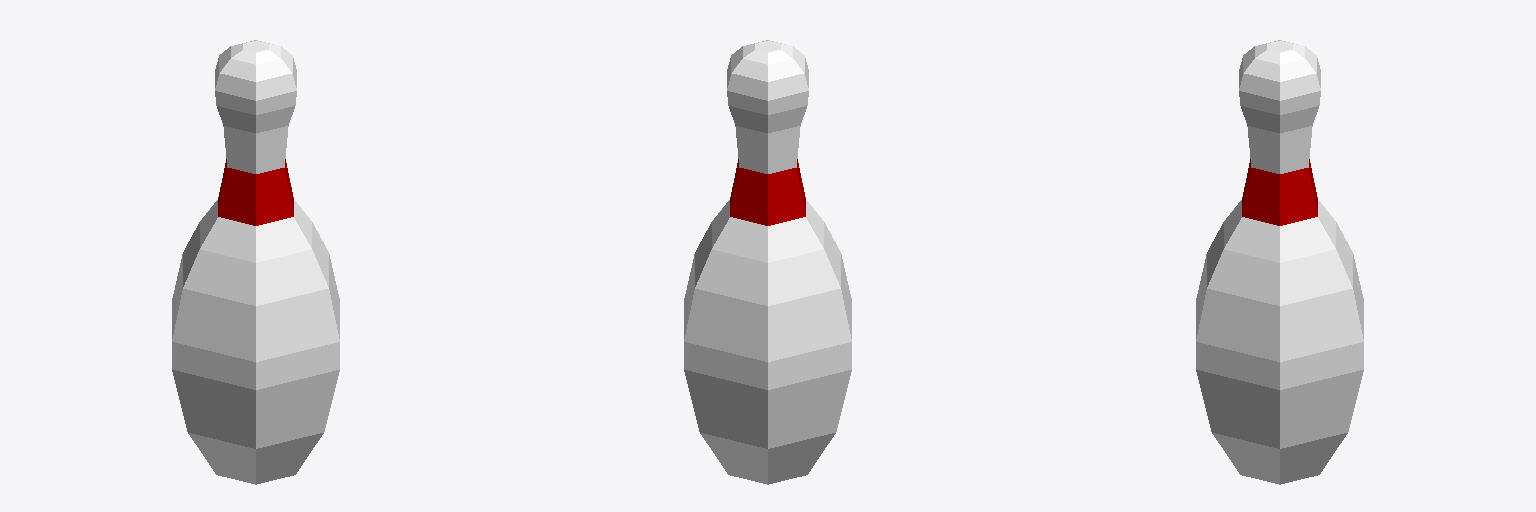
Rendered from pin.obj.
3 renders of one model, left to right at view 1: azimuth 30°, elevation 25°; view 2: azimuth 150°, elevation 25°; view 3: azimuth 270°, elevation 25°, orthographic.
Parts seen in each view (by area): view 1: Mesh1 Bowling_ball_and_pin1 Model; view 2: Mesh1 Bowling_ball_and_pin1 Model; view 3: Mesh1 Bowling_ball_and_pin1 Model.
Part boxes in pixels (bbox=[...]): Mesh1 Bowling_ball_and_pin1 Model: bbox=[172, 40, 339, 484]; Mesh1 Bowling_ball_and_pin1 Model: bbox=[684, 40, 851, 484]; Mesh1 Bowling_ball_and_pin1 Model: bbox=[1196, 40, 1363, 484].
Bounding box in the file's own units: 0.1596 × 0.38 × 0.1382.